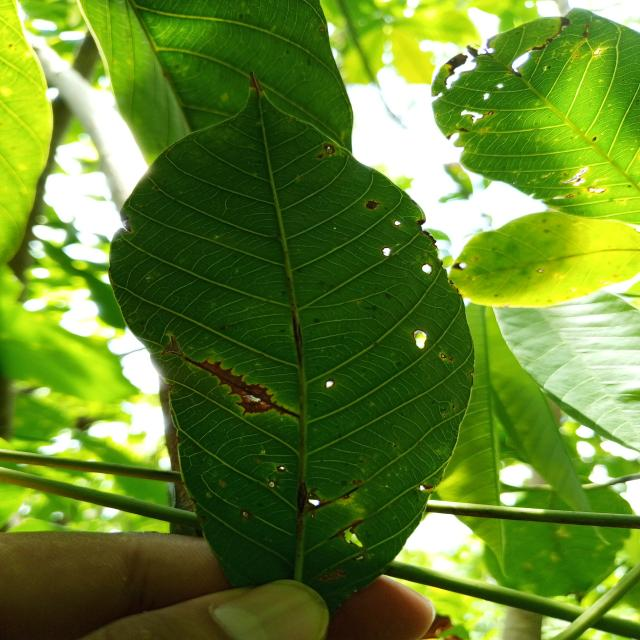Colletotrichum: (324, 379, 336, 388), (276, 465, 286, 473), (267, 481, 276, 488), (241, 510, 249, 517), (441, 353, 445, 359), (444, 413, 446, 416)
Corynespora: (181, 356, 300, 419), (309, 488, 360, 513), (327, 519, 366, 540)
